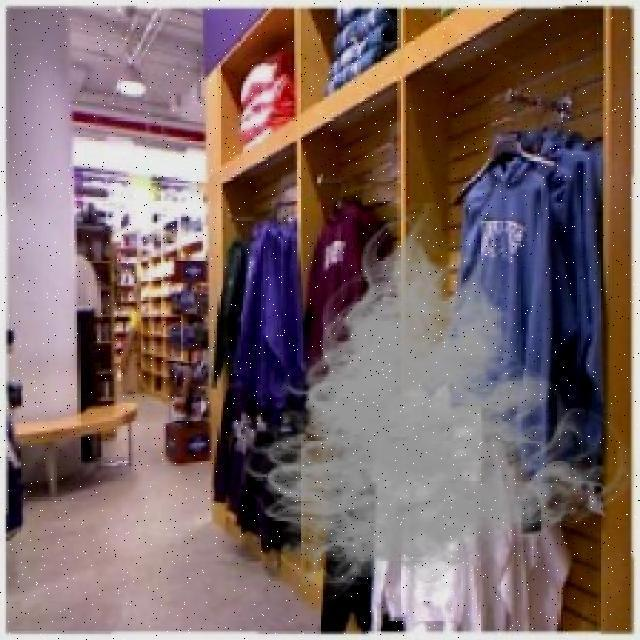smoke: (294, 231, 628, 604)
